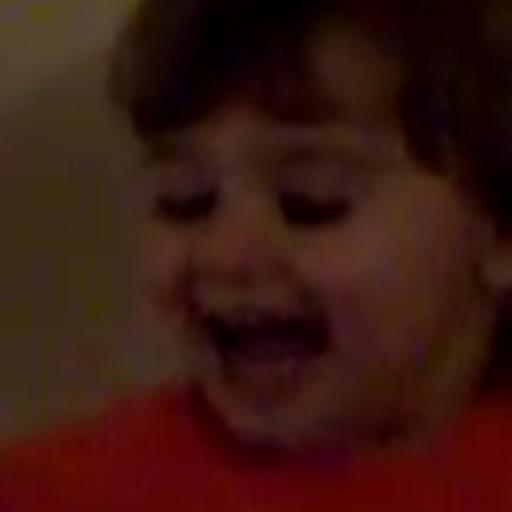Autism: (56, 29, 512, 412)
